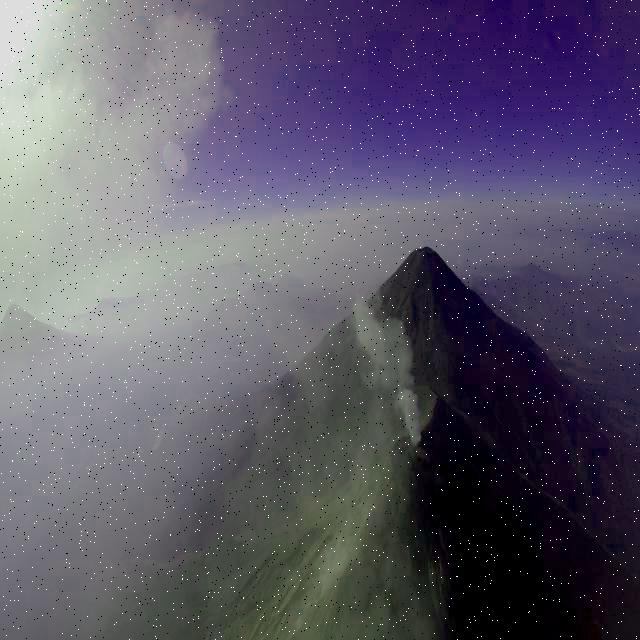Plume: (0, 0, 228, 297), (350, 292, 416, 395), (394, 390, 422, 445)
Summit: (388, 432, 424, 465)
